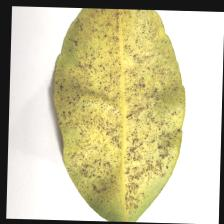canker: (62, 33, 173, 176)
